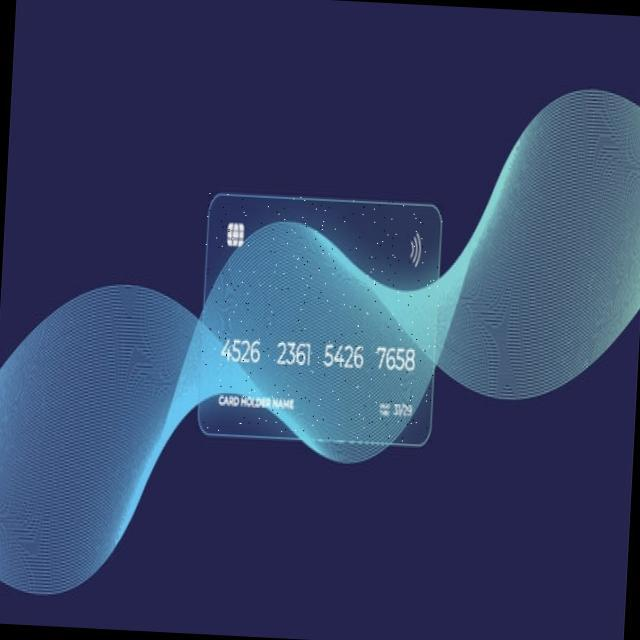payment_card: (198, 191, 443, 455)
